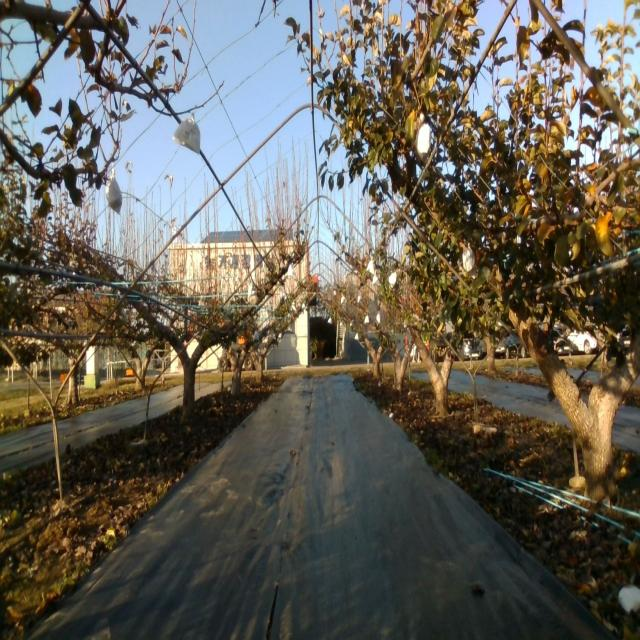pearbags: (171, 110, 201, 153), (106, 169, 122, 214), (415, 122, 432, 160), (461, 247, 475, 277)
